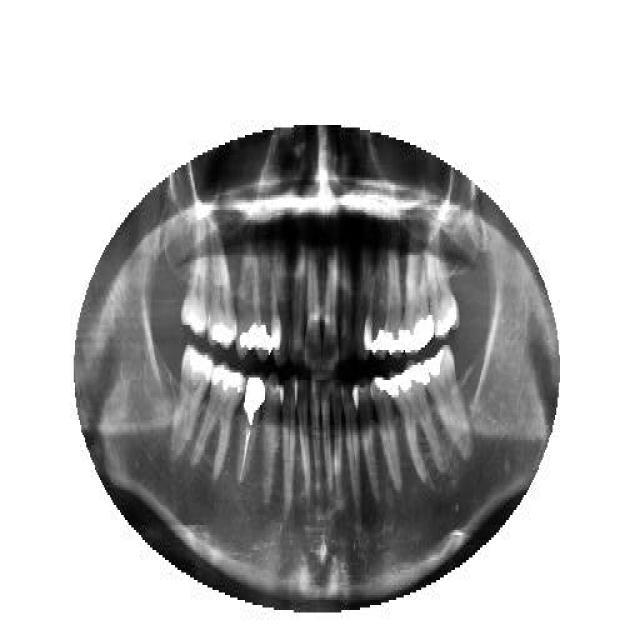Fillings: (390, 358, 442, 488), (191, 360, 245, 480), (422, 345, 472, 463), (172, 342, 214, 460), (370, 375, 401, 497), (400, 240, 434, 350), (205, 228, 236, 348), (426, 240, 462, 338), (236, 245, 255, 360), (254, 245, 272, 365), (385, 242, 403, 358), (370, 252, 386, 358)
Implant: (234, 368, 266, 490)
